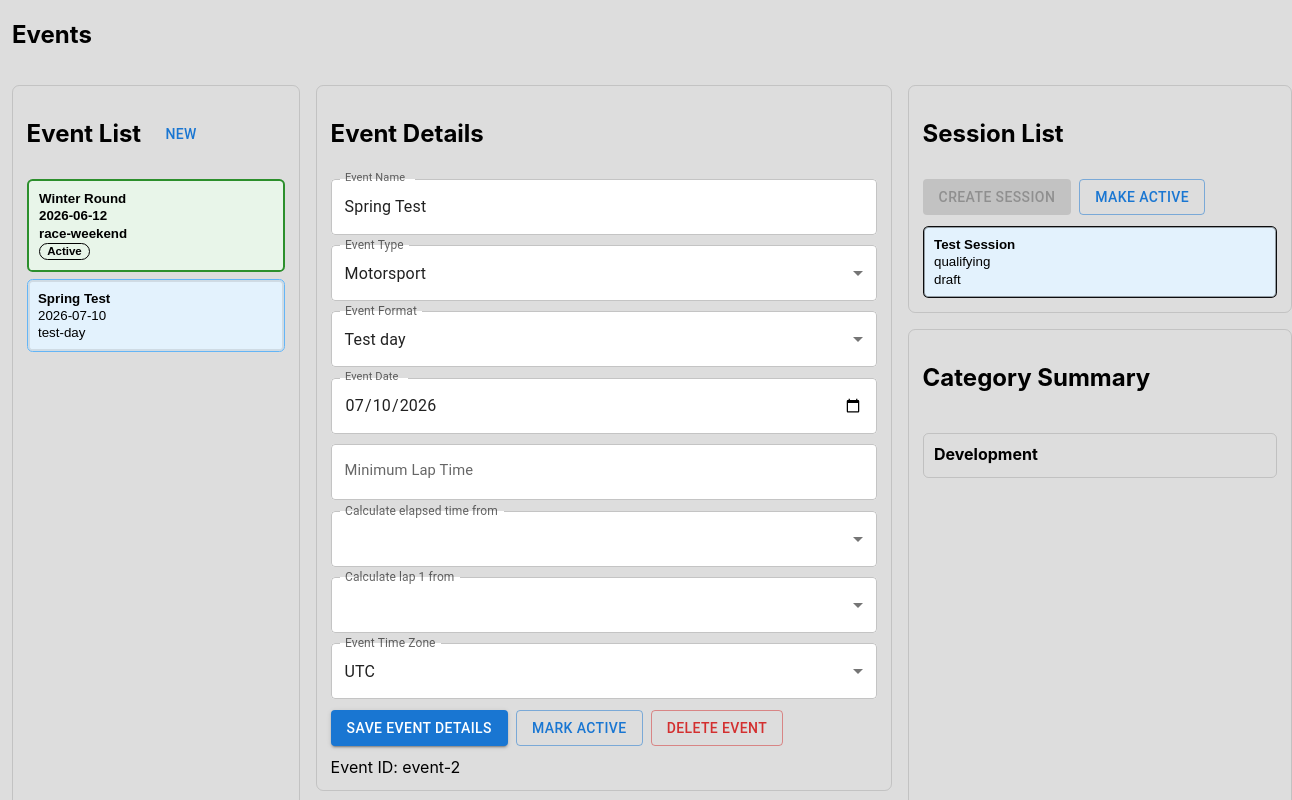
Test: EventsScreen integration › removes a deleted event from the event list without displaying its sessions
The image size is (1292, 800).
Click the button "Delete Event": (717, 728) 651,710 -> 783,746
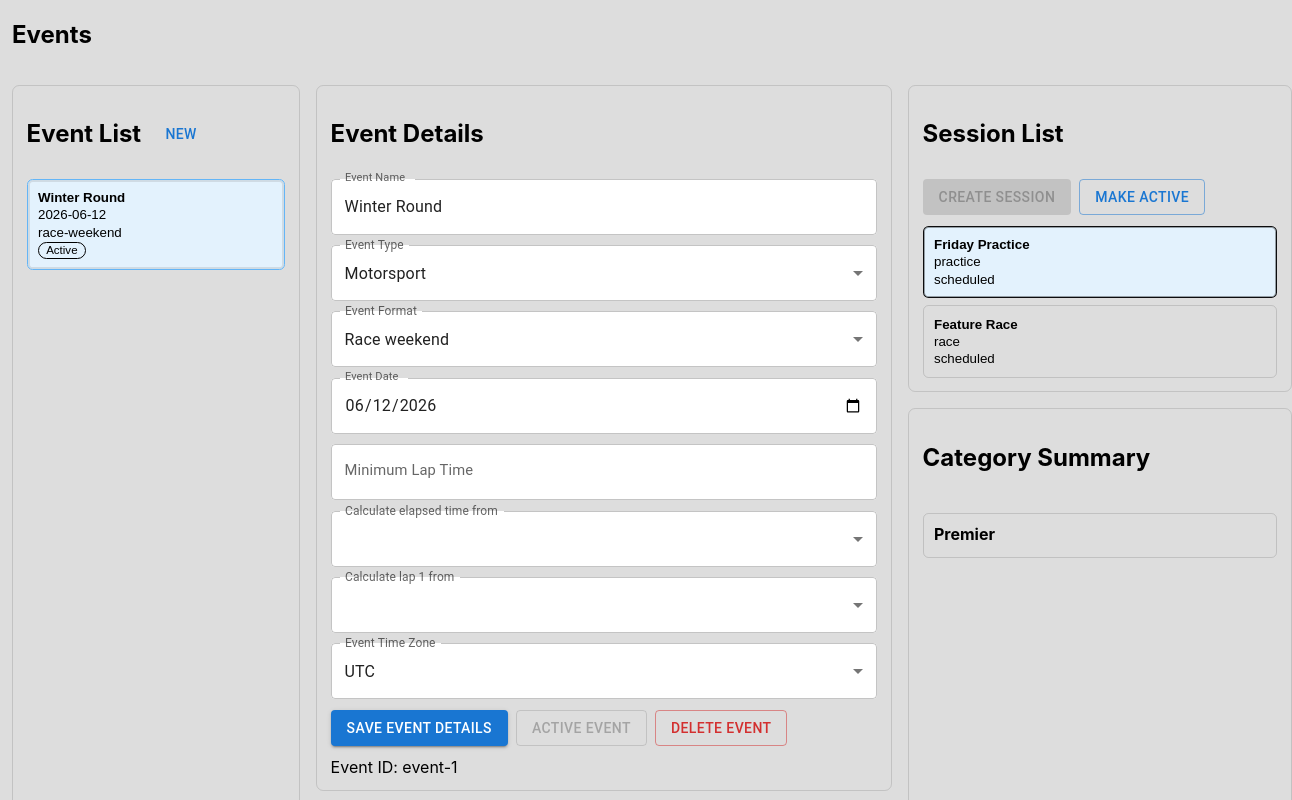
Expected: the text "Winter Round" is shown, 38,190 -> 125,205
Result: the text "Spring Test" is gone
Result: the text "Test Session" is gone
